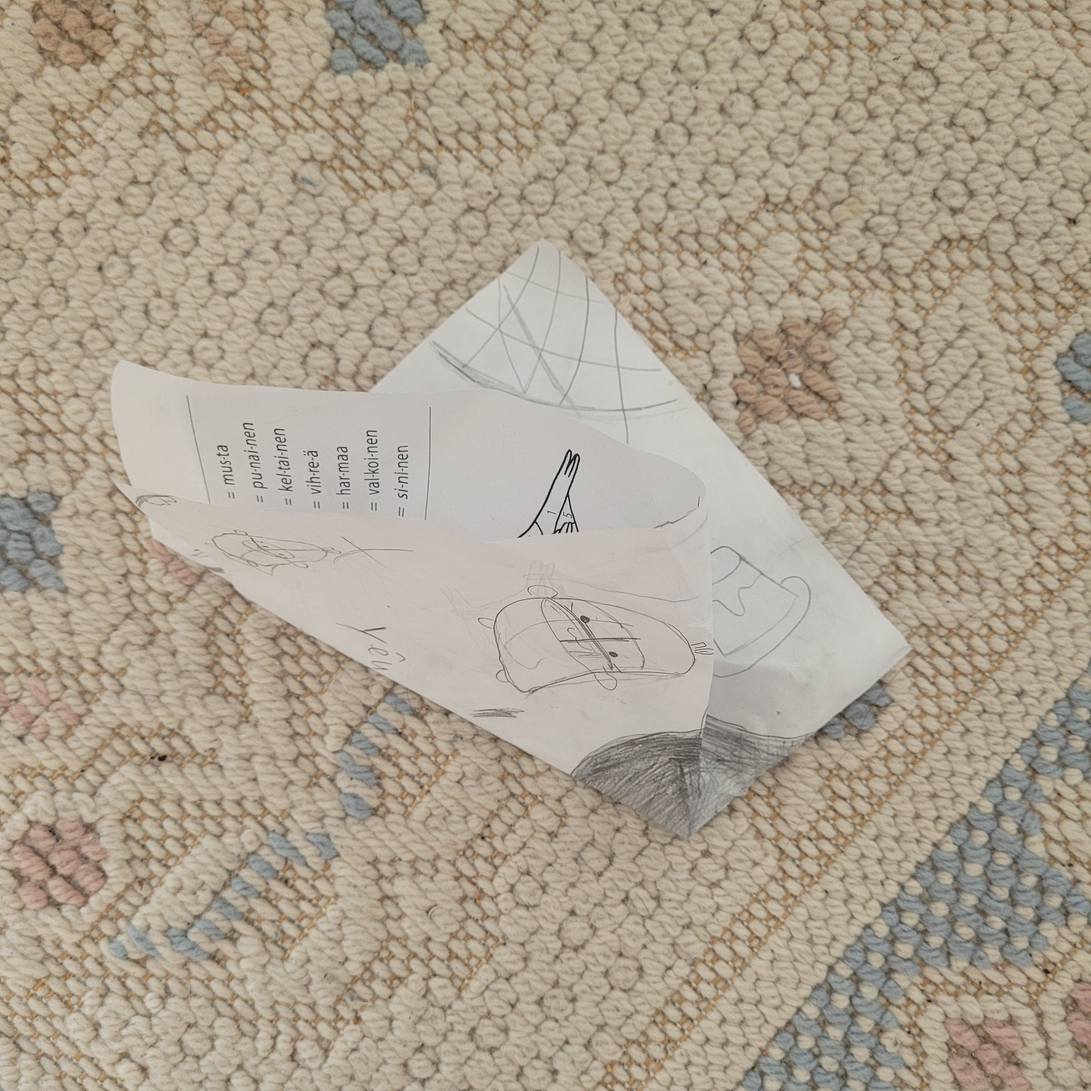paper: (109, 233, 917, 853)
